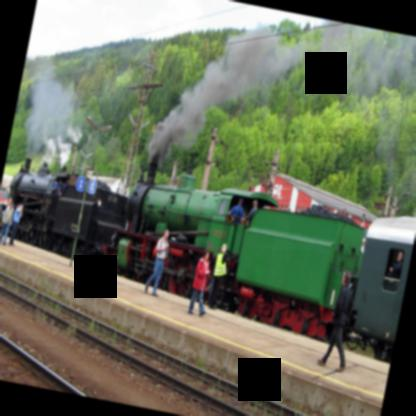backpack: (152, 238, 162, 257)
